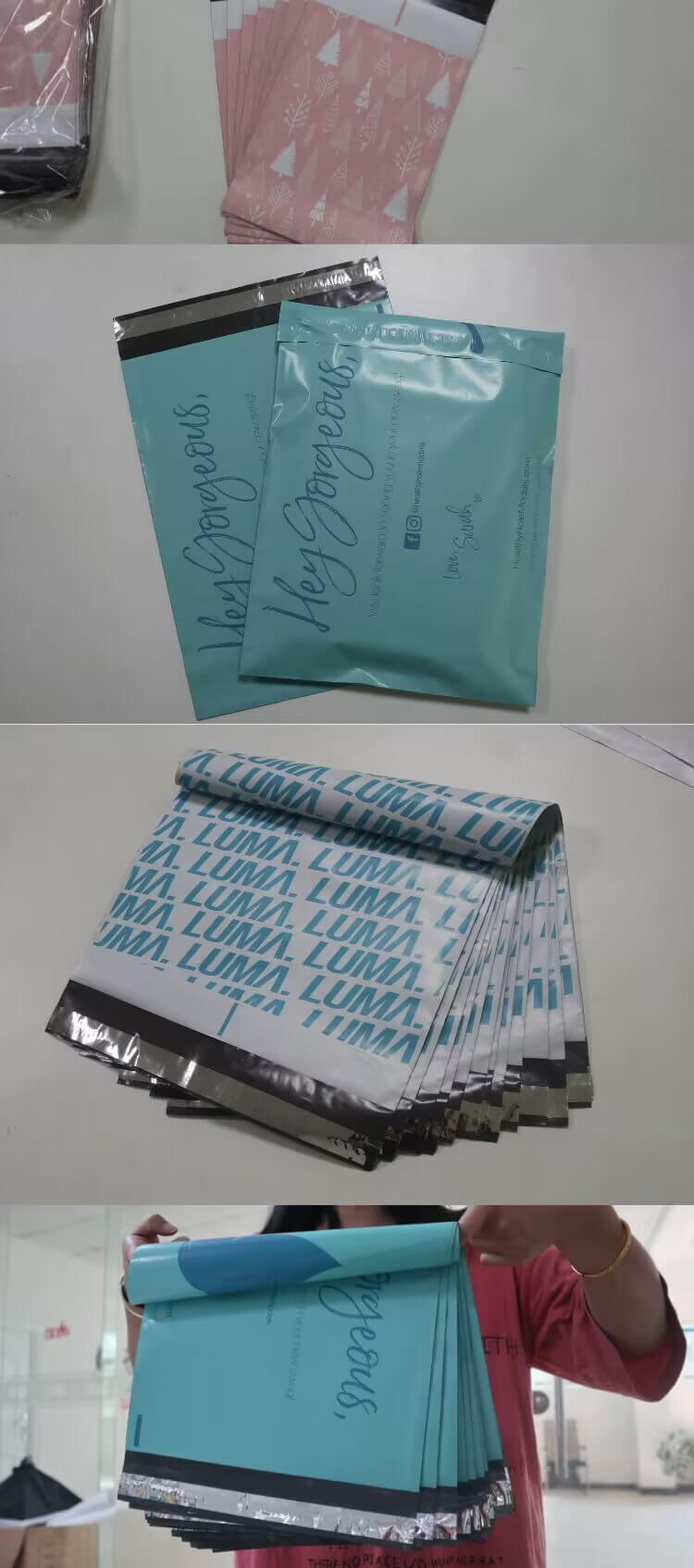塑料袋: (48, 751, 591, 1168), (115, 259, 563, 719), (119, 1223, 510, 1547), (211, 0, 494, 243)
